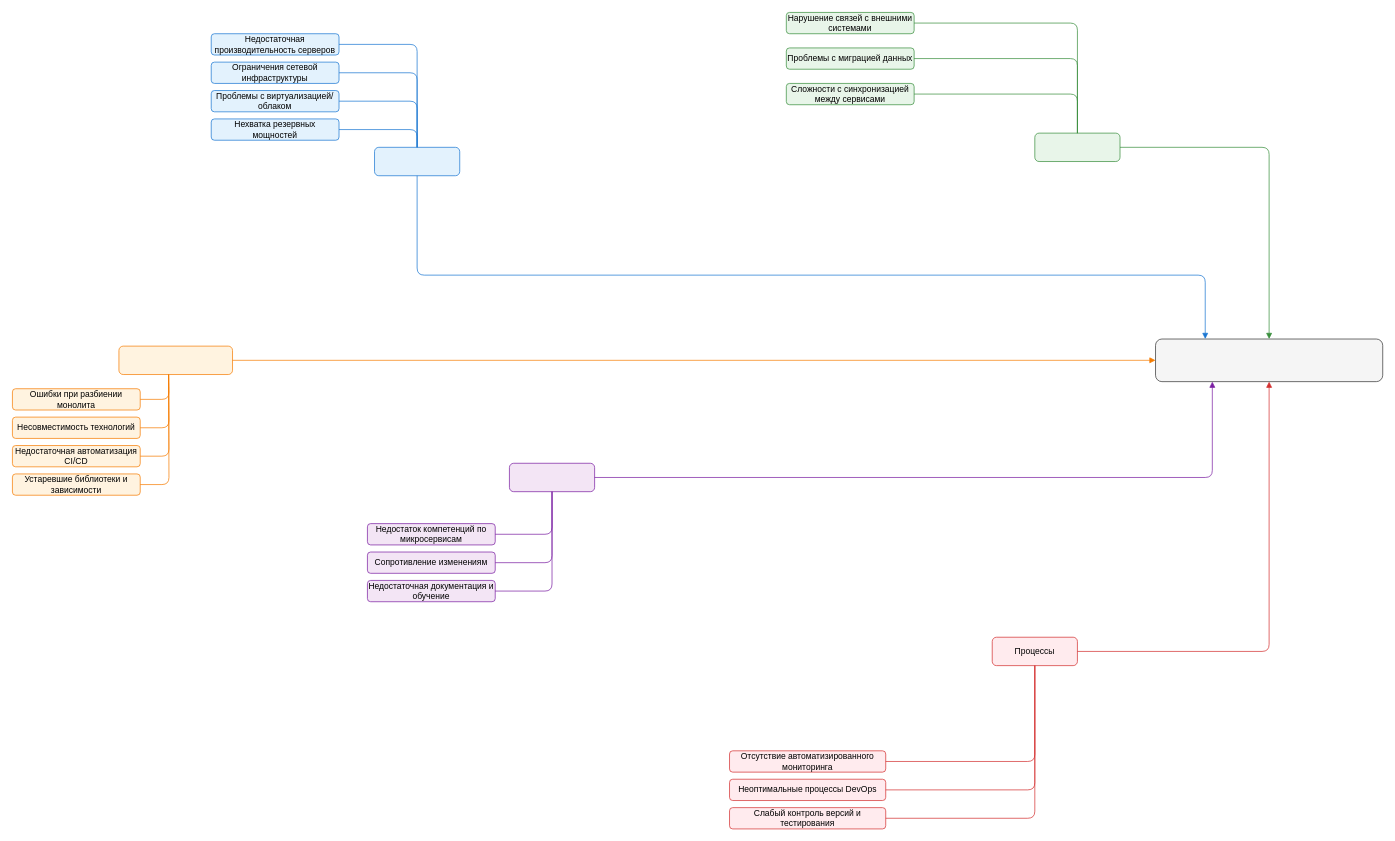
Image size: 1395x841. Some labels were removed from this diagram. Each missing label, with the centre of its shape:
"Интеграция" belongs at [1077,147].
"Инфраструктура" belongs at [417,161].
"Персонал" belongs at [552,477].
"Программное обеспечение" belongs at [175,360].
"Снижение производительности и надёжности системы при миграции" belongs at [1269,360].
